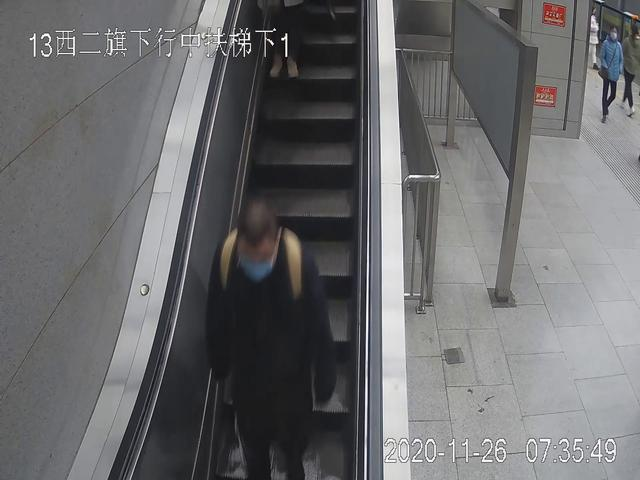person: (209, 201, 337, 480), (597, 26, 622, 123), (621, 23, 640, 118)
